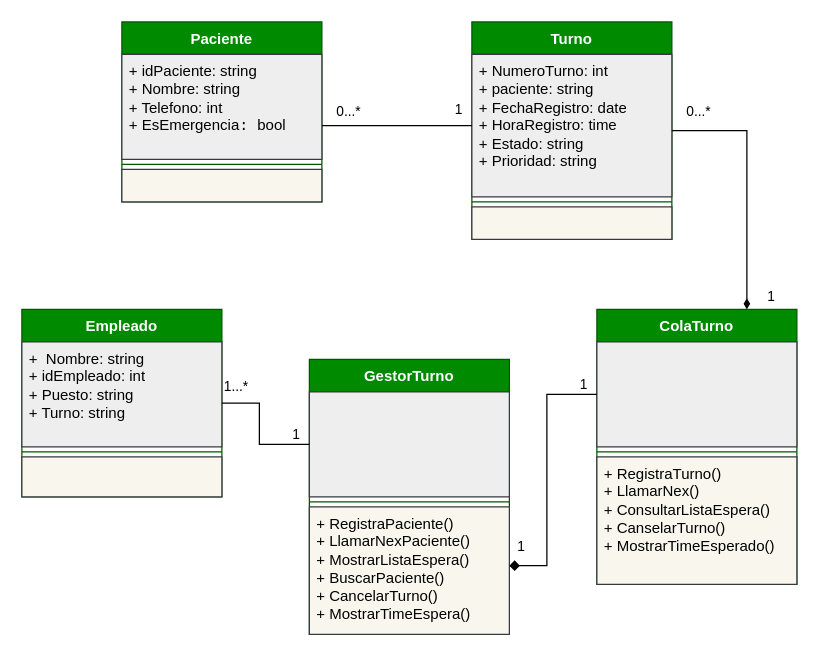
Some shapes in this 819 by 660 pixel diagram are drawn without their labels. Here are the shapes that lost their labels. From the top down, the centre of each, then its label:
point 221,185: + ObtenerDatos()
point 571,222: + CalcTiempoEstimado()
point 696,394: + ListaTurnos : list
point 408,444: + ColaTurnos : list
point 121,476: + GestionarTurnos()
